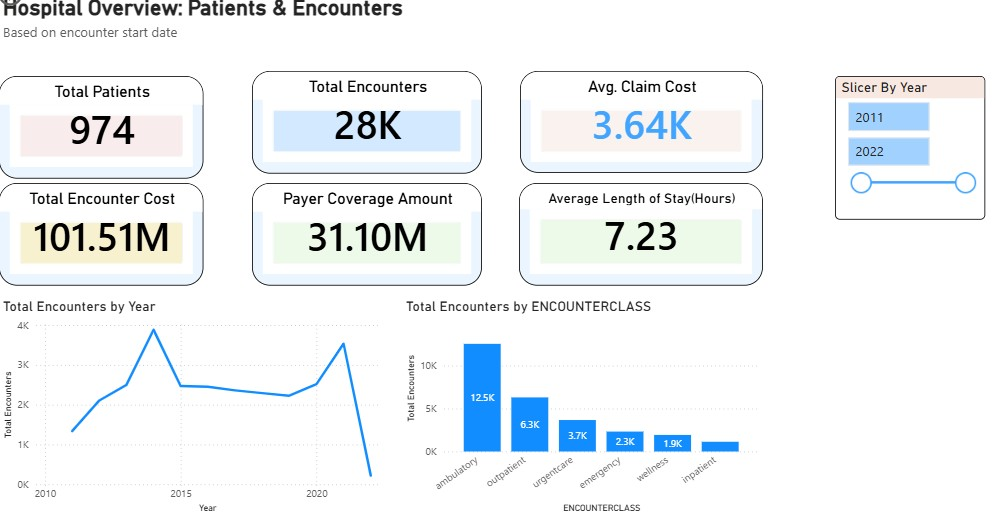

What the dashboard file says about the page in this screenshot:
{"tool":"powerbi","page":{"name":"Executive Overview","canvas":[1280,720],"ordinal":0},"visuals":[{"type":"cardVisual","title":"Total Patients","fields":{"Data":["patients.Total Patients (All Time)"]},"box":[6.7,120.2,249.3,124.6],"z":0},{"type":"lineChart","fields":{"Y":["encounters.Total Encounters"],"Category":["Date Table.Year"]},"box":[6.7,390.6,470.7,266],"z":1000},{"type":"columnChart","fields":{"Category":["encounters.ENCOUNTERCLASS"],"Y":["encounters.Total Encounters"]},"box":[497.4,390.6,439.6,266],"z":2000},{"type":"slicer","title":"Slicer By Year","fields":{"Values":["Date Table.Year"]},"box":[1024.2,120.6,182.7,175.4],"z":3000},{"type":"cardVisual","title":"Total Encounters","fields":{"Data":["encounters.Total Encounters"]},"box":[313.8,114.6,280.4,124.6],"z":4000},{"type":"cardVisual","title":"Total Encounter Cost","fields":{"Data":["encounters.Total Encounter Cost"]},"box":[6.7,250.4,249.3,124.6],"z":5000},{"type":"cardVisual","title":"Payer Coverage Amount","fields":{"Data":["encounters.Payer Coverage Amount"]},"box":[313.8,250.4,280.4,124.6],"z":6000},{"type":"cardVisual","title":"Average Length of Stay(Hours)","fields":{"Data":["encounters.Average Length of Stay (Hours)"]},"box":[639.9,250.4,297.1,124.6],"z":7000},{"type":"textbox","title":"Hospital Overview: Patients & Encounters","box":[6.1,20.7,820.9,62.1],"z":8000},{"type":"actionButton","box":[0,0,100,40],"z":9000},{"type":"cardVisual","title":"Avg. Claim Cost","fields":{"Data":["procedures.Avg Claim Cost"]},"box":[640.6,114.5,295.9,124.2],"z":9001}]}

Visuals, with their boxes on the page's 1280x720 design canvas (x1, y1, x2, y2). These are canvas units, not pixel positions in the 1005x523 screenshot, which may show the page scaled, cropped or inside an application window:
"Total Patients" cardVisual: bbox=(7, 120, 256, 245)
lineChart - encounters.Total Encounters x Date Table.Year: bbox=(7, 391, 477, 657)
columnChart - encounters.ENCOUNTERCLASS x encounters.Total Encounters: bbox=(497, 391, 937, 657)
"Slicer By Year" slicer: bbox=(1024, 121, 1207, 296)
"Total Encounters" cardVisual: bbox=(314, 115, 594, 239)
"Total Encounter Cost" cardVisual: bbox=(7, 250, 256, 375)
"Payer Coverage Amount" cardVisual: bbox=(314, 250, 594, 375)
"Average Length of Stay(Hours)" cardVisual: bbox=(640, 250, 937, 375)
"Hospital Overview: Patients & Encounters" textbox: bbox=(6, 21, 827, 83)
actionButton: bbox=(0, 0, 100, 40)
"Avg. Claim Cost" cardVisual: bbox=(641, 114, 936, 239)
